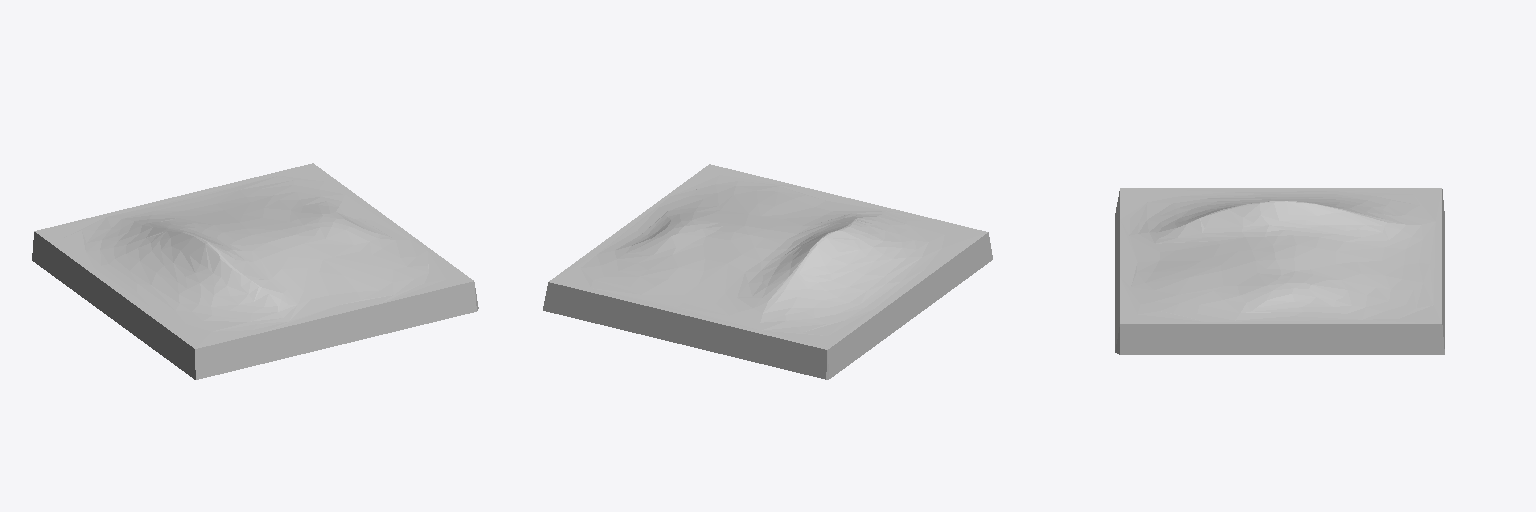
File: areia2.obj
The picture shows the model from 3 angles: view 1: azimuth 30°, elevation 25°; view 2: azimuth 150°, elevation 25°; view 3: azimuth 270°, elevation 25°; orthographic projection.
Visible parts, largest first — view 1: Procedural_terra; view 2: Procedural_terra; view 3: Procedural_terra.
Part boxes in pixels (x1,y1,x2,y2): Procedural_terra: (32,163,478,379); Procedural_terra: (543,164,992,379); Procedural_terra: (1115,188,1444,354).
Bounding box in the file's own units: 17.09 × 3.32 × 17.09.